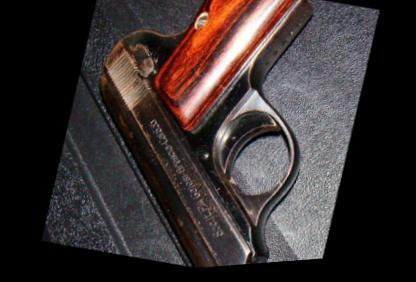pistol: (58, 0, 348, 276)
